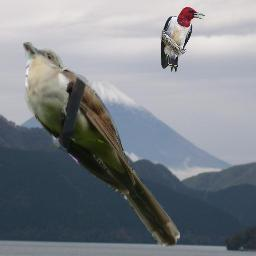Cuckoo: (23, 42, 180, 247)
Woodpecker: (159, 7, 206, 73)
